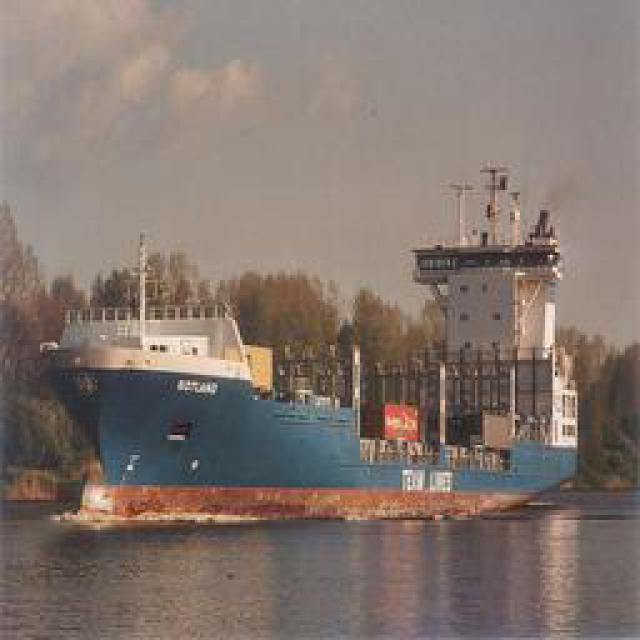Ship: (14, 365, 574, 528)
